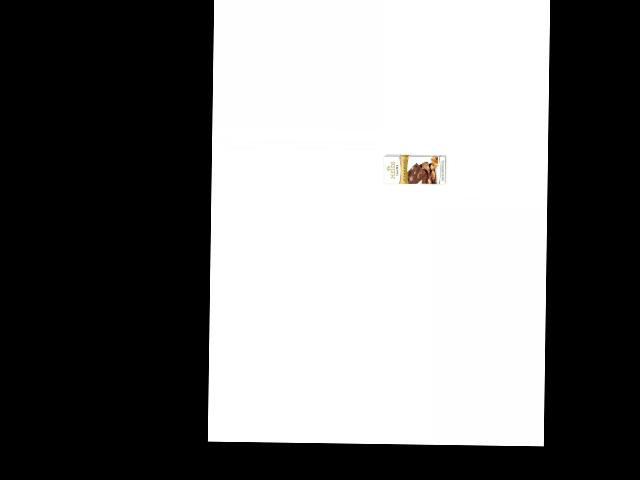chocolate: (379, 149, 445, 191)
